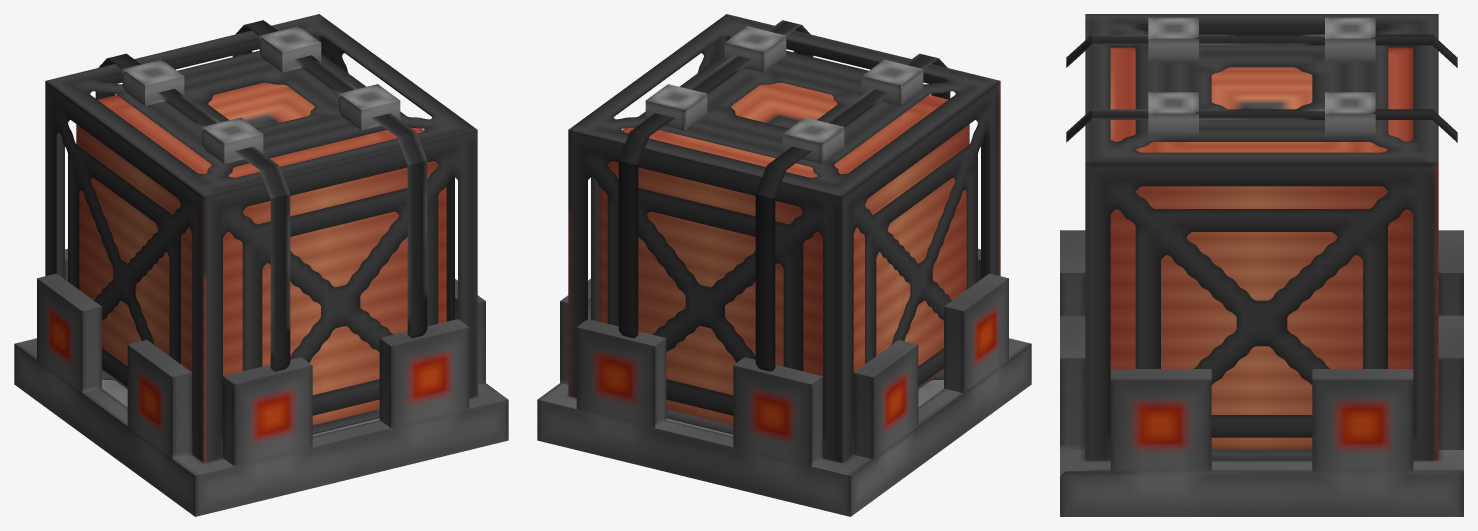
Rendered from socket_capacitor_copper.obj.
3 views of the same model, side by side, from view 1: azimuth 30°, elevation 25°; view 2: azimuth 150°, elevation 25°; view 3: azimuth 270°, elevation 25° (orthographic). The views are drawn at different scales.
Size of the model in its own units: 2 by 2 by 2.
